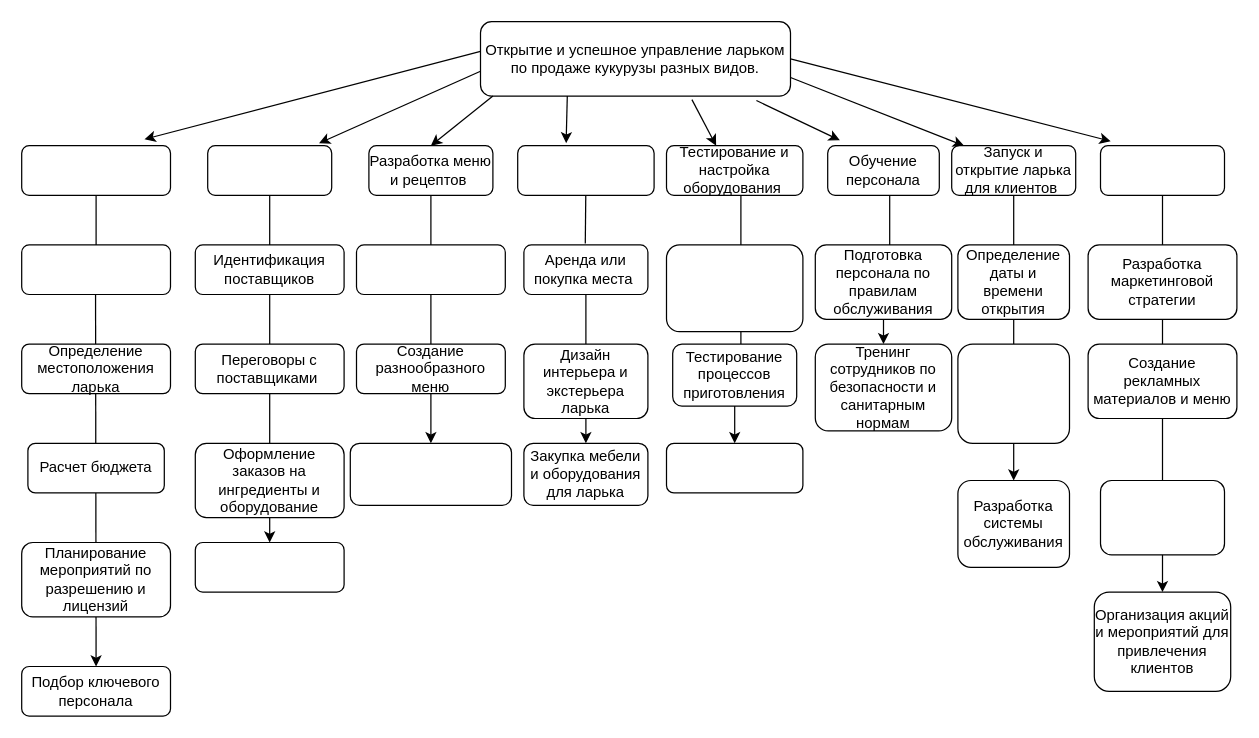
Image size: 1259x738. Some labels were removed from this diagram. Each missing label, with the centre of its shape:
"Закупка ингредиентов и оборудования" belongs at pixel 269 169.
"Запуск рекламных кампаний" belongs at pixel 1161 517.
"Исследование рынка и конкурентов" belongs at pixel 430 269.
"Маркетинг и реклама" belongs at pixel 1161 169.
"Организация доставки" belongs at pixel 269 566.
"Планирование и подготовка к открытию ларька" belongs at pixel 95 169.
"Подготовка инфраструктуры для клиентов" belongs at pixel 1013 393.
"Разработка бизнес плана" belongs at pixel 95 269.
"Разработка рецептов и стандартов приготовления" belongs at pixel 430 473.
"Разработка стандартов безопасности" belongs at pixel 734 467.
"Создание ларька и его дизайна" belongs at pixel 585 169.
"Установка и проверка работоспособности оборудования" belongs at pixel 734 288.
